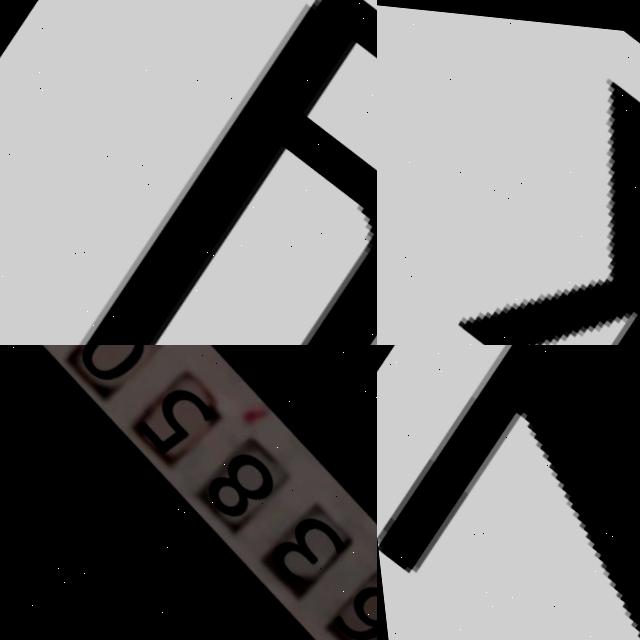0: (48, 345, 170, 411)
3: (235, 477, 362, 609)
5: (111, 353, 234, 481)
6: (301, 548, 377, 640)
8: (172, 417, 295, 543)
G: (16, 0, 377, 345)
K: (377, 20, 640, 345)
N: (377, 345, 640, 640)
